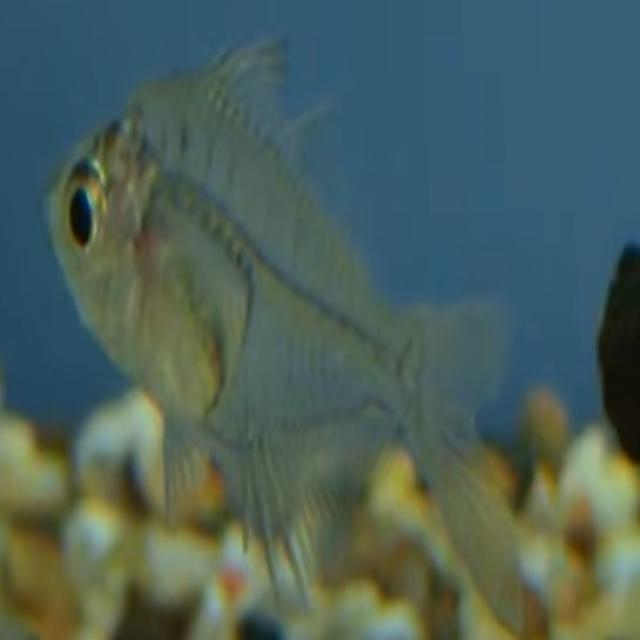Glass-Perchlet: (36, 23, 538, 629)
